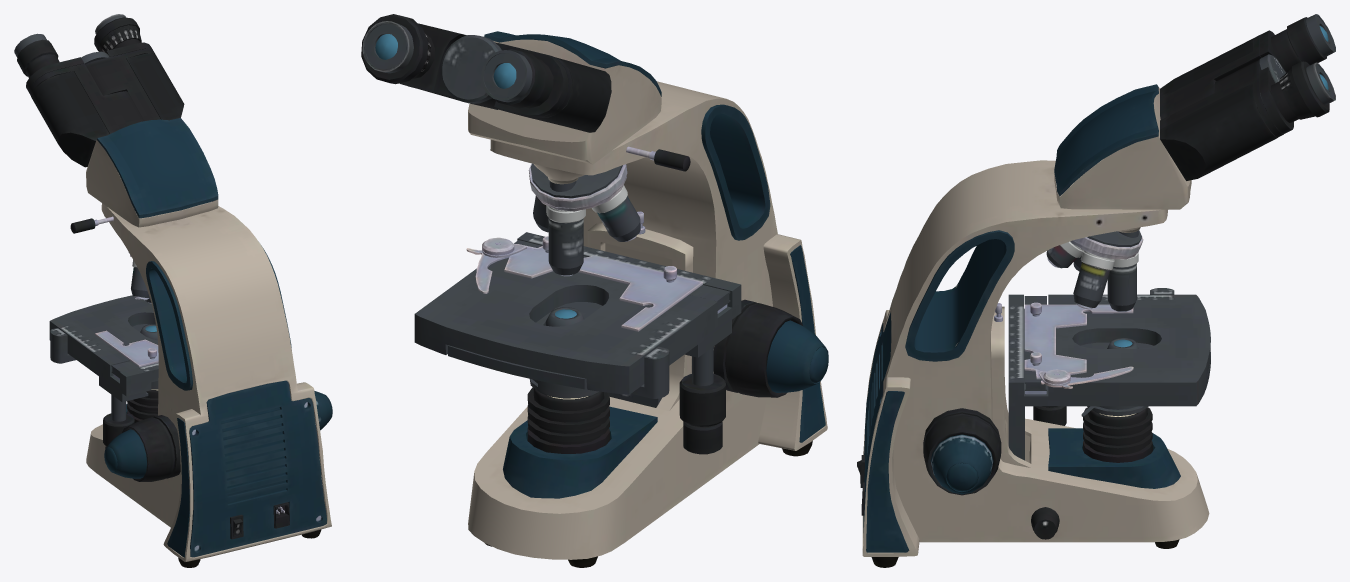
The model's file is Microscope-transformed.glb.
The picture shows the model from 3 angles, left to right: view 1: azimuth 30°, elevation 25°; view 2: azimuth 150°, elevation 25°; view 3: azimuth 270°, elevation 25°; orthographic projection. The views are drawn at different scales.
Visible parts, largest first — view 1: MicroscopeBase_LowPoly__0; view 2: MicroscopeBase_LowPoly__0; view 3: MicroscopeBase_LowPoly__0.
Boxes of the visible parts, x1=… form: MicroscopeBase_LowPoly__0: x1=14, y1=14, x2=332, y2=567; MicroscopeBase_LowPoly__0: x1=361, y1=14, x2=828, y2=567; MicroscopeBase_LowPoly__0: x1=857, y1=14, x2=1335, y2=567.
Size of the model in its own units: 30.48 by 51.96 by 46.33.
Materials: 1 (1 with a texture image).
